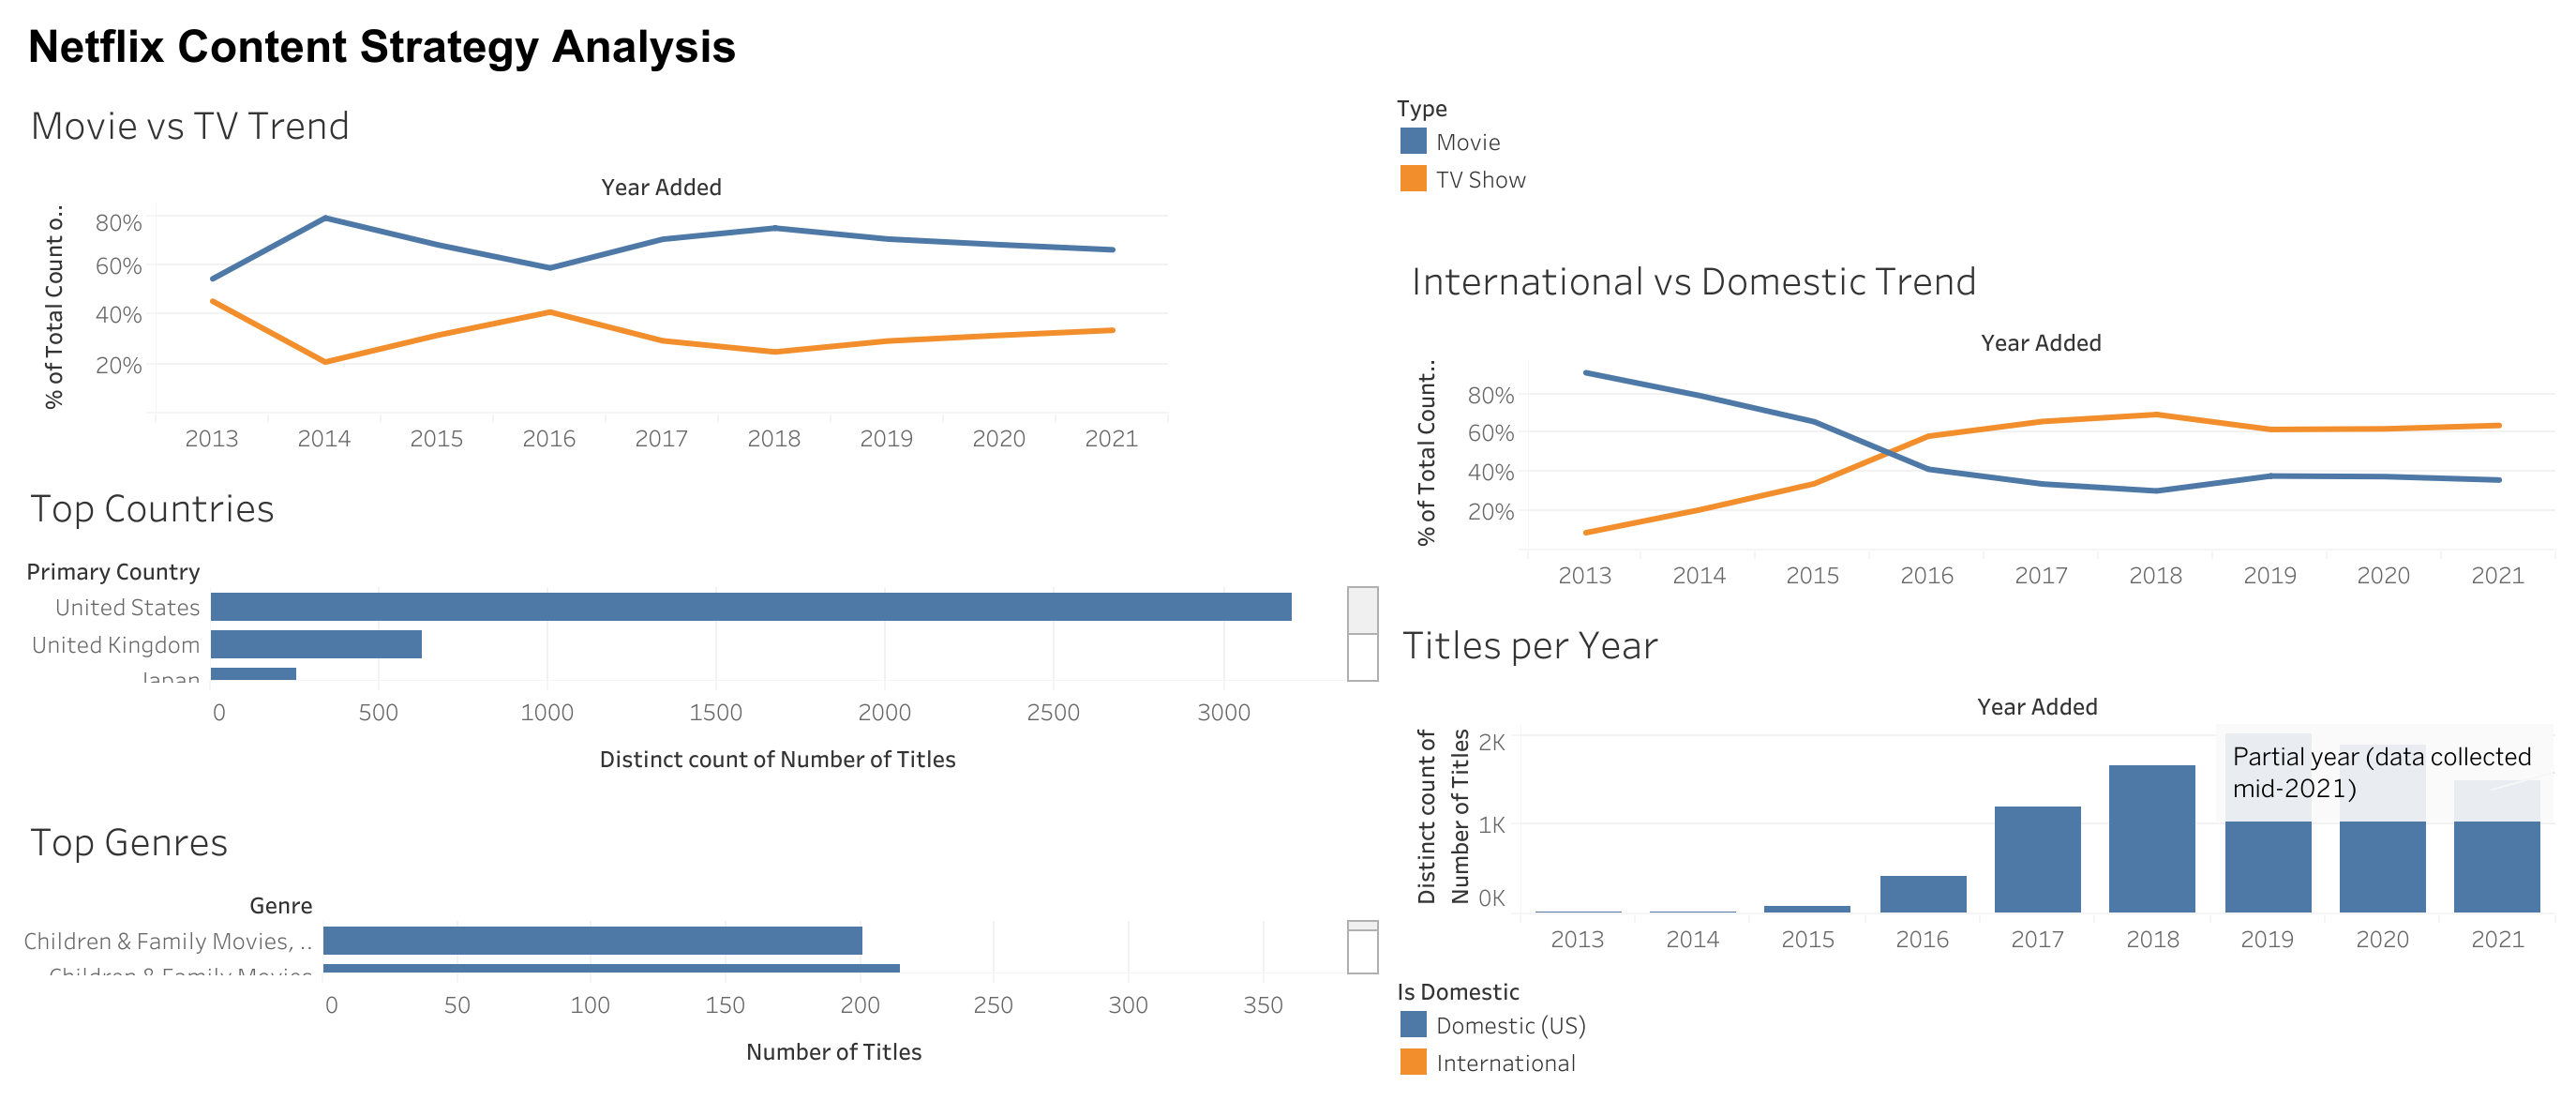

What the dashboard file says about the page in this screenshot:
{"tool":"tableau","page":{"name":"Netflix Content Strategy Analysis","canvas":[1000,1000],"units":"permille","ordinal":0},"visuals":[{"type":"title","box":[6.5,10.4,987,44.3]},{"type":"worksheet","title":"Movie vs TV Trend","mark":"Line","cols":["year_added"],"box":[6.5,54.7,476.8,354.1]},{"type":"legend","title":"Movie vs TV Trend","param":"[federated.0bgtpfj05li1s51gslan91s56t0w].[none:type:nk]","box":[483.3,54.7,510.2,108.1]},{"type":"worksheet","title":" International vs Domestic Trend","mark":"Line","rows":["show_id"],"cols":["year_added"],"box":[483.3,162.8,510.2,370.4]},{"type":"worksheet","title":"Top Countries","mark":"Bar","rows":["primary_country"],"cols":["show_id"],"box":[6.5,408.8,476.8,309.9]},{"type":"worksheet","title":"Titles per Year","mark":"Bar","rows":["show_id"],"cols":["year_added"],"box":[483.3,533.2,510.2,370.4]},{"type":"worksheet","title":"Top Genres","mark":"Automatic","rows":["listed_in"],"cols":["show_id"],"box":[6.5,718.7,476.8,270.9]},{"type":"legend","title":" International vs Domestic Trend","param":"[federated.0bgtpfj05li1s51gslan91s56t0w].[none:Calculation_3864369976376586240:n","box":[483.3,903.6,510.2,85.9]}]}

Visuals, with their boxes on the dashboard's canvas, which has no fixed pixel size, in thousandths of its width and height (x1, y1, x2, y2). These are canvas units, not pixel positions in the 2576x1101 screenshot, which may show the page scaled, cropped or inside an application window:
title: detection(6, 10, 994, 55)
"Movie vs TV Trend" worksheet (Line marks): detection(6, 55, 483, 409)
"Movie vs TV Trend" legend: detection(483, 55, 994, 163)
" International vs Domestic Trend" worksheet (Line marks): detection(483, 163, 994, 533)
"Top Countries" worksheet (Bar marks): detection(6, 409, 483, 719)
"Titles per Year" worksheet (Bar marks): detection(483, 533, 994, 904)
"Top Genres" worksheet: detection(6, 719, 483, 990)
" International vs Domestic Trend" legend: detection(483, 904, 994, 990)
